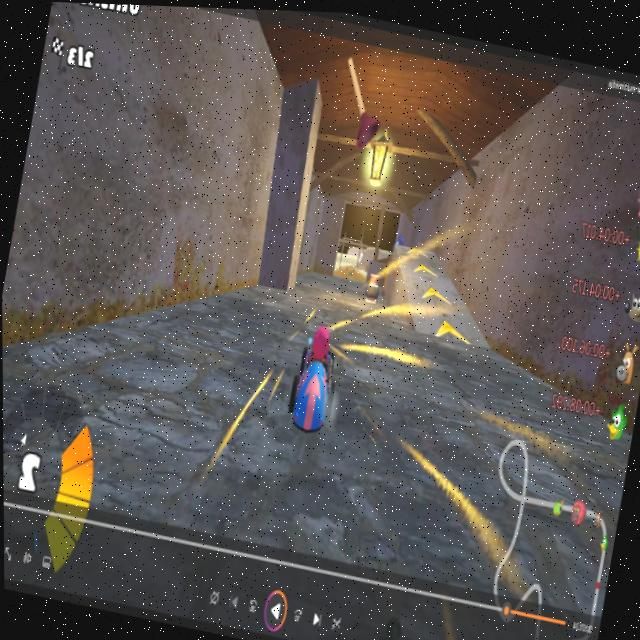player_kart: (282, 317, 340, 435)
power_up: (432, 313, 469, 350), (415, 280, 450, 307), (409, 255, 437, 280), (403, 233, 429, 254)
track: (322, 267, 362, 314)
